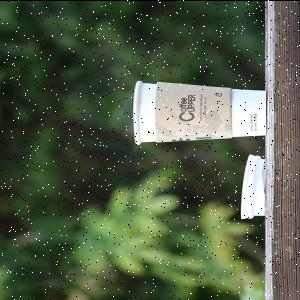Cup: (134, 81, 274, 146)
